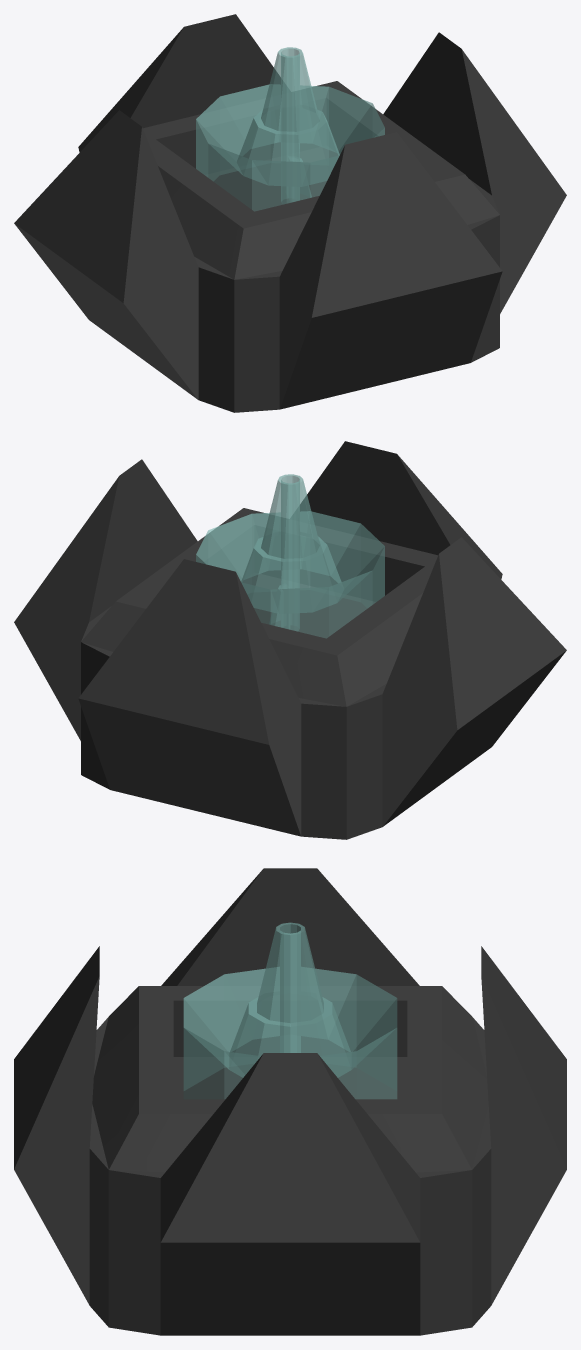
The model's file is lasers_trap 1.fbx.
The picture shows the model from 3 angles, top to bottom: view 1: azimuth 30°, elevation 25°; view 2: azimuth 150°, elevation 25°; view 3: azimuth 270°, elevation 25°; orthographic projection. The views are drawn at different scales.
Parts seen in each view (by area): view 1: pCylinder2; view 2: pCylinder2; view 3: pCylinder2.
Part boxes in pixels (x1,y1,x2,y2): pCylinder2: [14, 14, 566, 412]; pCylinder2: [14, 441, 566, 839]; pCylinder2: [14, 868, 566, 1335].
Size of the model in its own units: 14.84 by 8.69 by 13.53.
